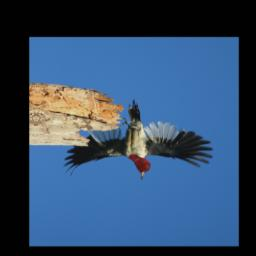Woodpecker: (62, 96, 216, 182)
